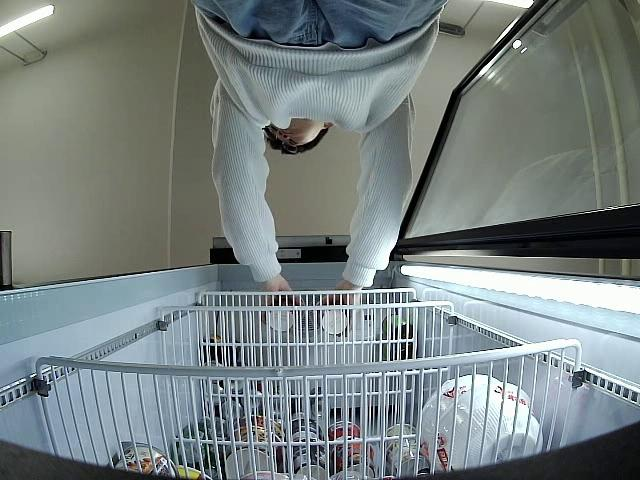00_hand: (316, 282, 361, 331), (256, 281, 302, 319)
